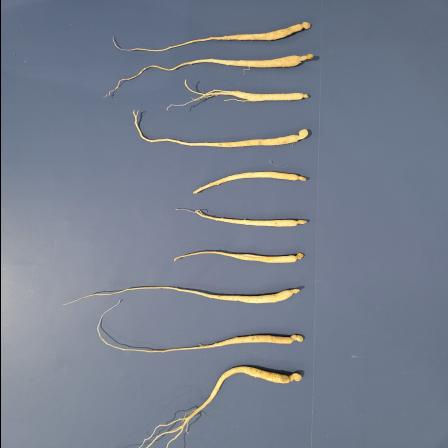Ginseng: (136, 363, 306, 448), (96, 307, 310, 353), (113, 50, 318, 88), (135, 105, 312, 146), (105, 19, 314, 51), (58, 283, 302, 307), (167, 79, 312, 112), (190, 170, 309, 196), (178, 206, 308, 229), (174, 248, 306, 265)
head: (284, 370, 302, 384), (286, 332, 304, 344), (295, 54, 313, 66), (293, 128, 307, 142), (296, 21, 311, 32), (290, 218, 307, 226), (286, 287, 300, 295), (293, 251, 304, 261), (292, 175, 306, 182), (296, 92, 308, 100)
